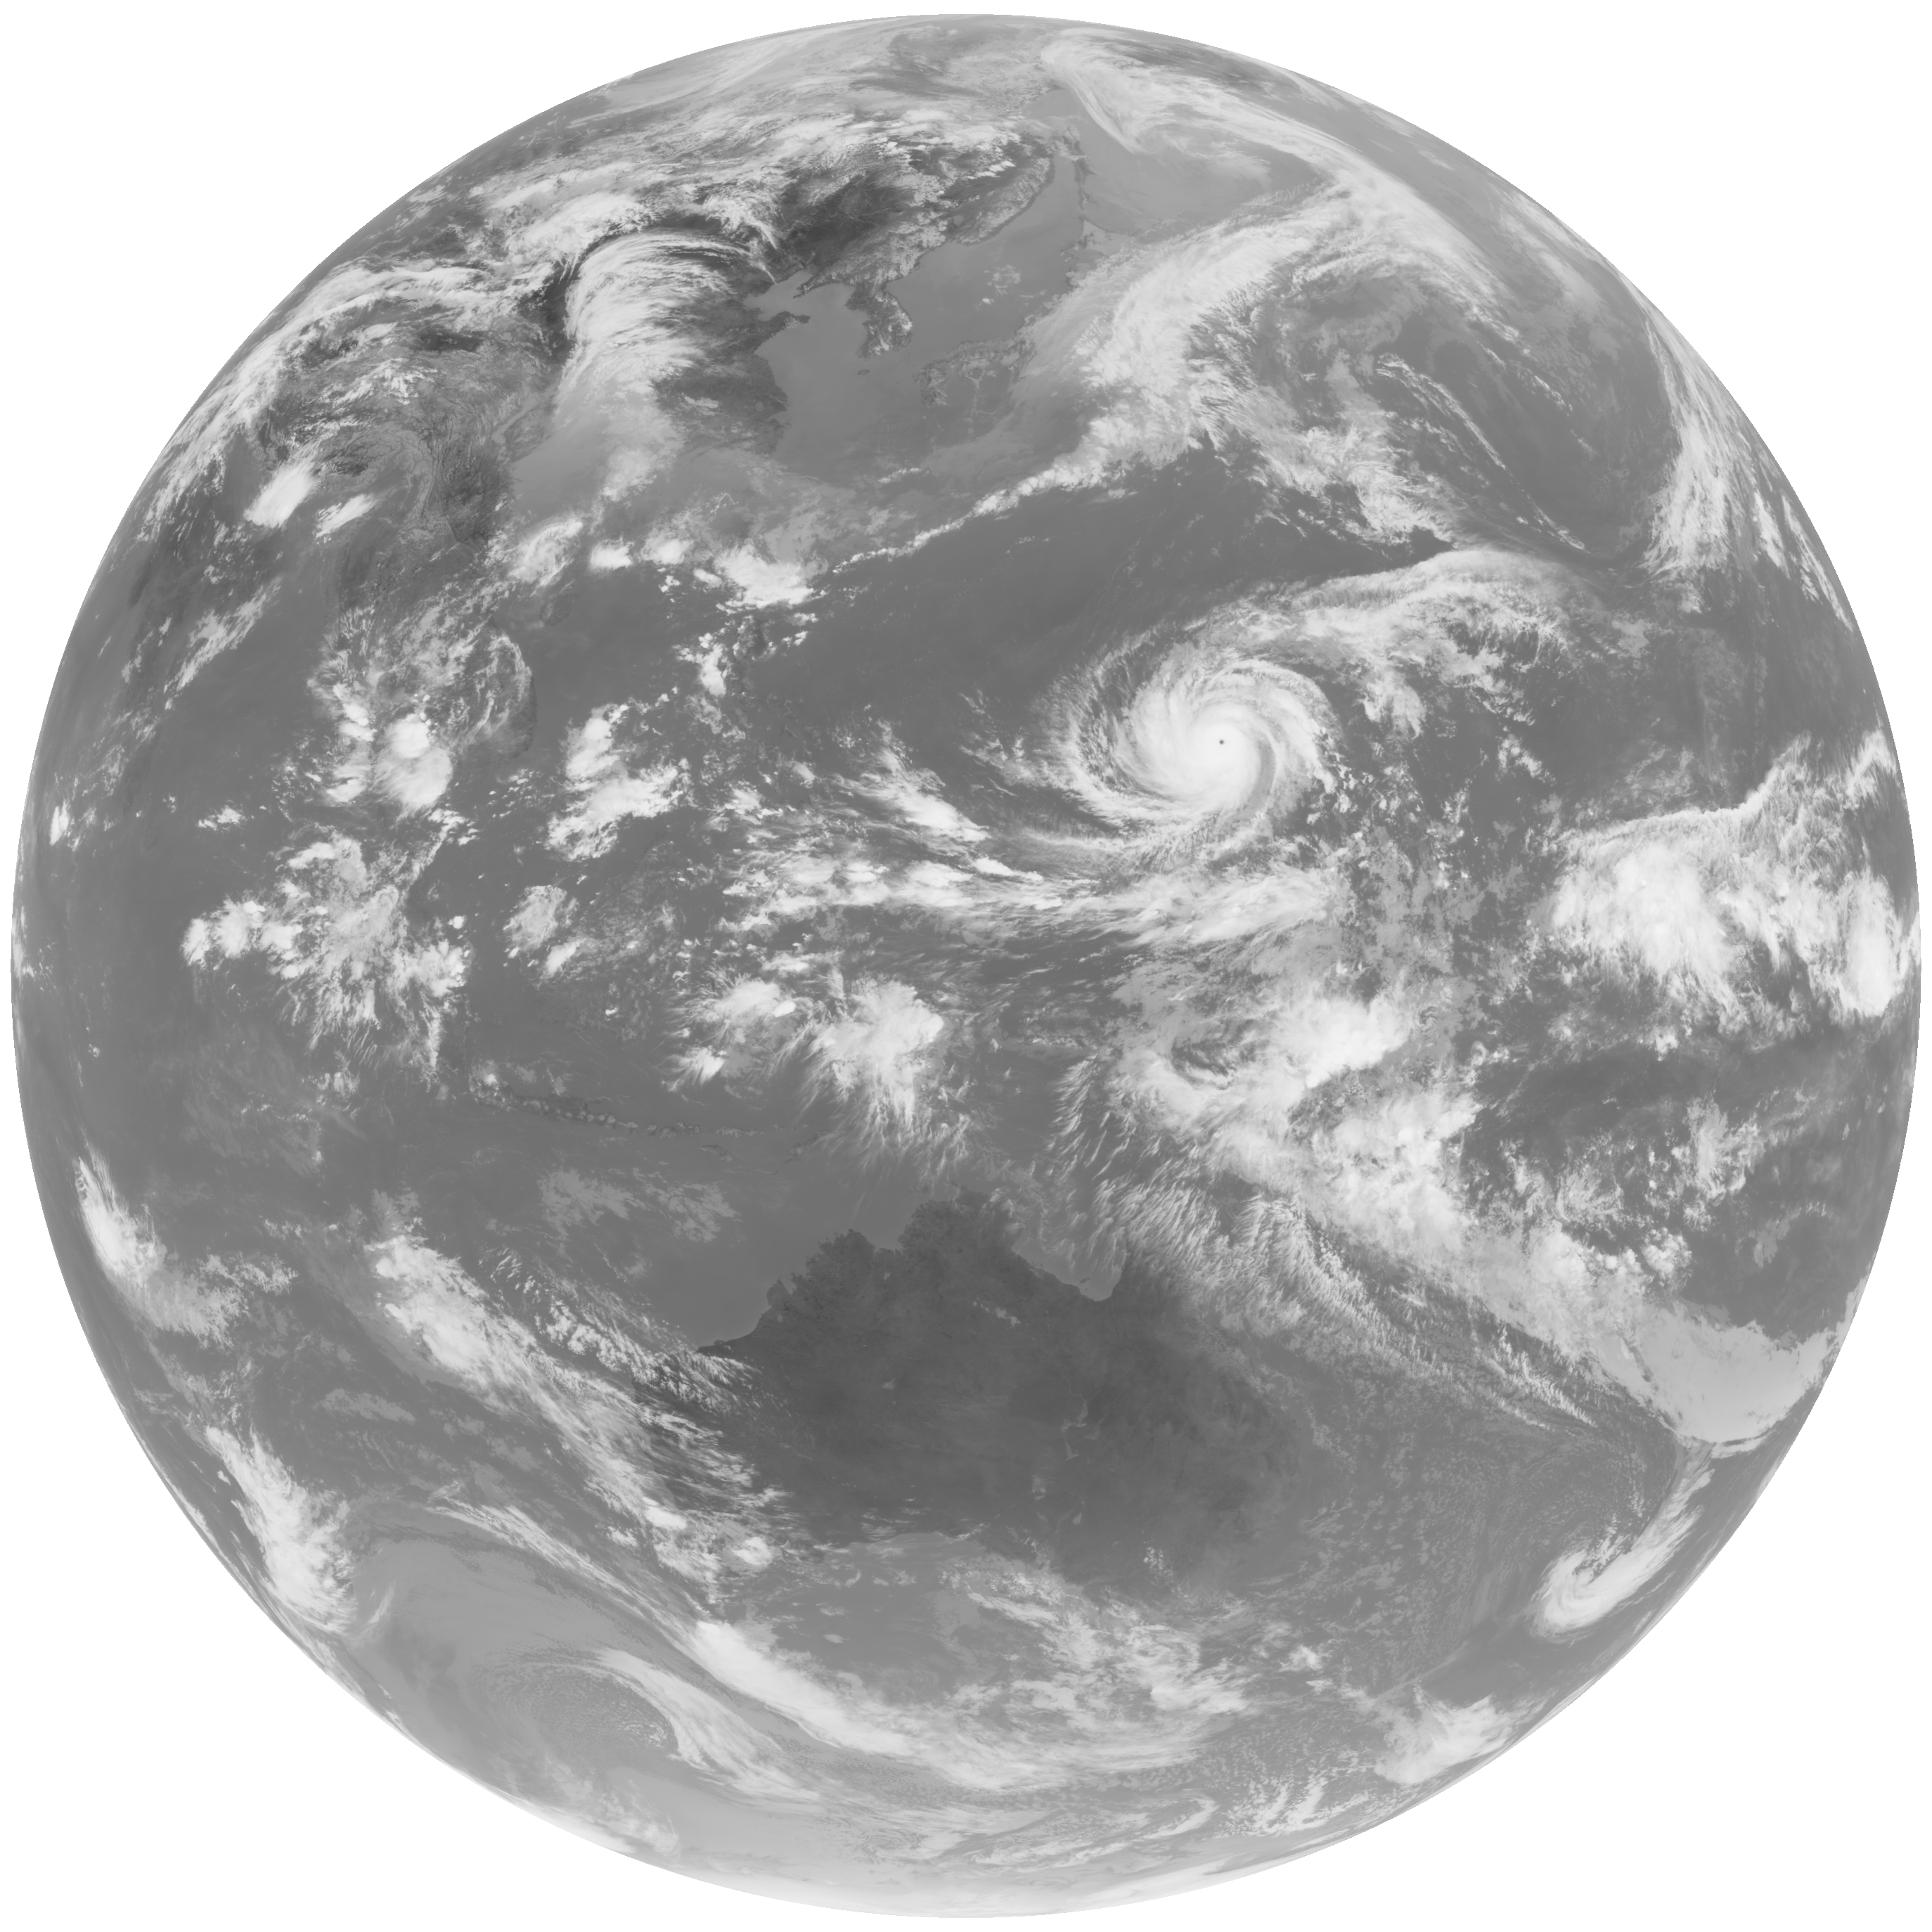typhoon: (886, 541, 1559, 920)
